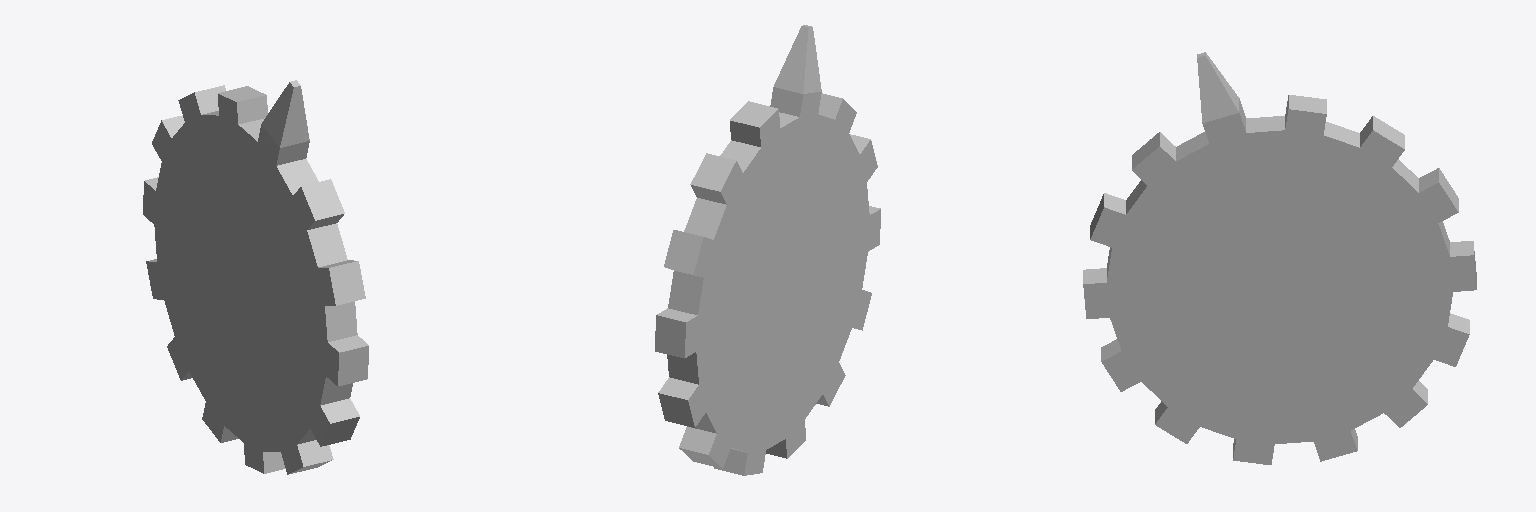
Rendered from gear_000002.obj.
The picture shows the model from 3 angles: view 1: azimuth 30°, elevation 25°; view 2: azimuth 150°, elevation 25°; view 3: azimuth 270°, elevation 25°; orthographic projection.
Visible parts, largest first — view 1: gear_Cylinder.001; view 2: gear_Cylinder.001; view 3: gear_Cylinder.001.
Part boxes in pixels (left/top/right/bottom): gear_Cylinder.001: left=143, top=80, right=368, bottom=474; gear_Cylinder.001: left=655, top=25, right=880, bottom=475; gear_Cylinder.001: left=1083, top=52, right=1476, bottom=464.
Bounding box in the file's own units: 0.1 × 1.29 × 1.13.